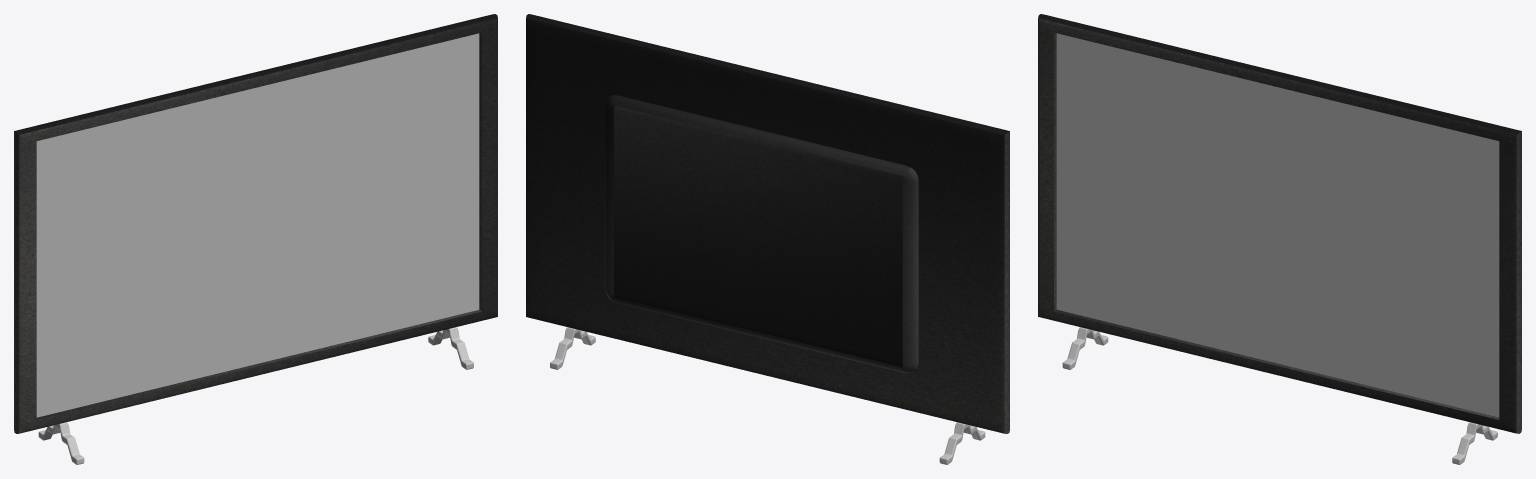
Rendered from TVFBX.fbx.
3 views of the same model, side by side, from view 1: azimuth 30°, elevation 25°; view 2: azimuth 150°, elevation 25°; view 3: azimuth 330°, elevation 25° (orthographic).
Visible parts, largest first — view 1: tv_screen, tv_cabinet, pCube4, pCube5; view 2: tv_cabinet, tv_back, pCube4, pCube5; view 3: tv_screen, tv_cabinet, pCube4, pCube5.
Part boxes in pixels (x1,y1,x2,y2): tv_screen: (36,33,479,417); tv_cabinet: (14,14,497,433); pCube4: (38,422,84,464); pCube5: (428,327,473,369); tv_cabinet: (526,14,1009,433); tv_back: (604,95,918,373); pCube4: (939,422,985,464); pCube5: (550,327,595,369); tv_screen: (1056,33,1499,417); tv_cabinet: (1038,14,1521,433); pCube4: (1062,327,1108,369); pCube5: (1452,422,1497,464).
Bounding box in the file's own units: 20.75 × 13.59 × 2.87.
